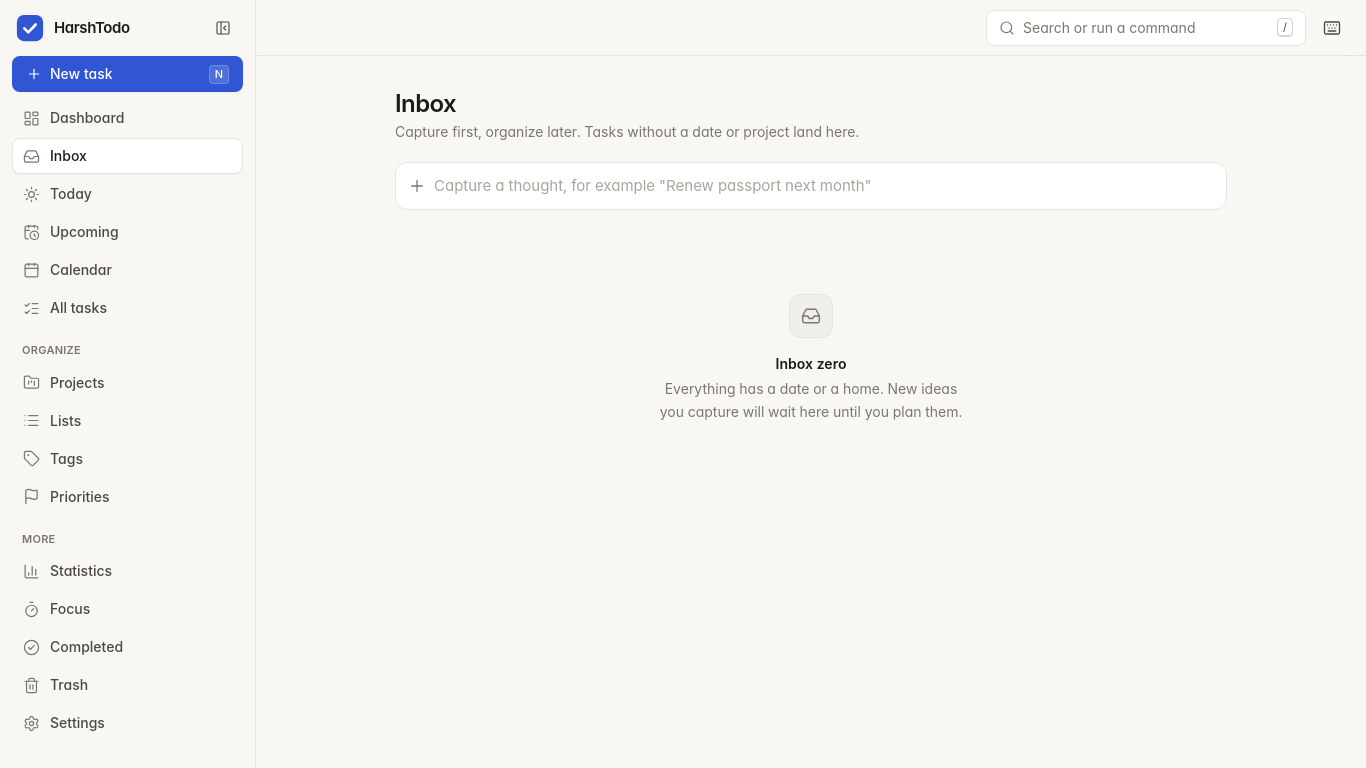
Test: keyboard shortcuts and accessibility › completes a task via Space on the selected row and can undo
The width and height of the screenshot is (1366, 768).
In the field named "Quick add task": x=824, y=186 434,175 -> 1214,197, type "Keyboard driven task"
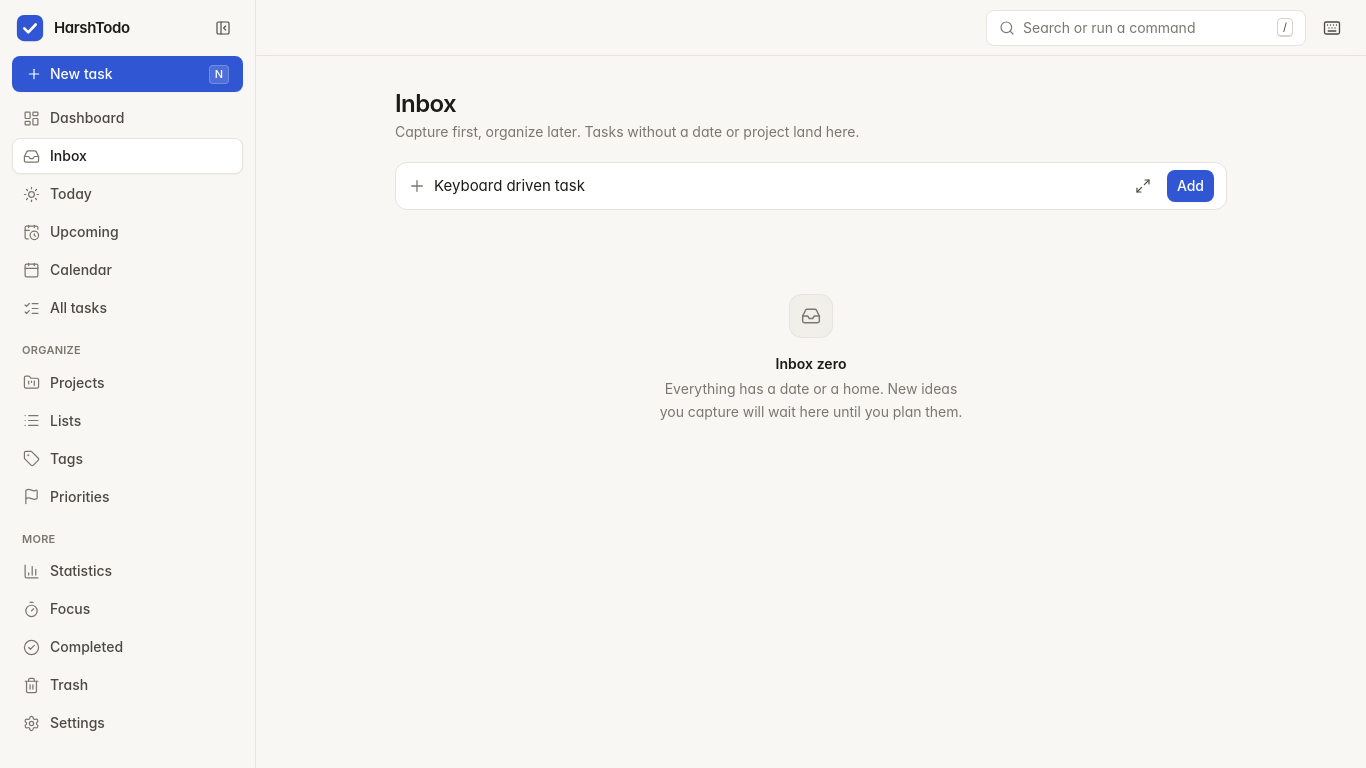
Submit the form named "Quick add task", box 395,162 -> 1227,210
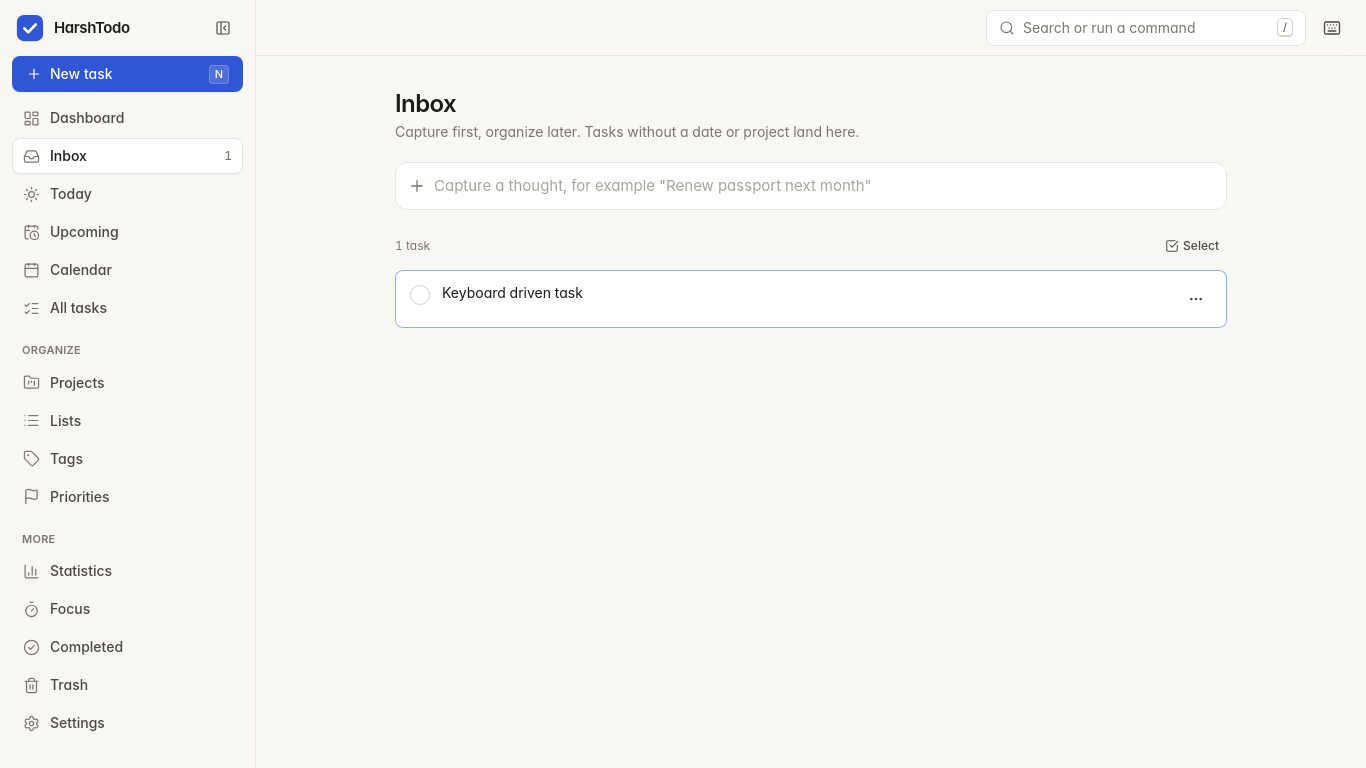
Press Space in the option "Keyboard driven task", box 395,270 -> 1227,328
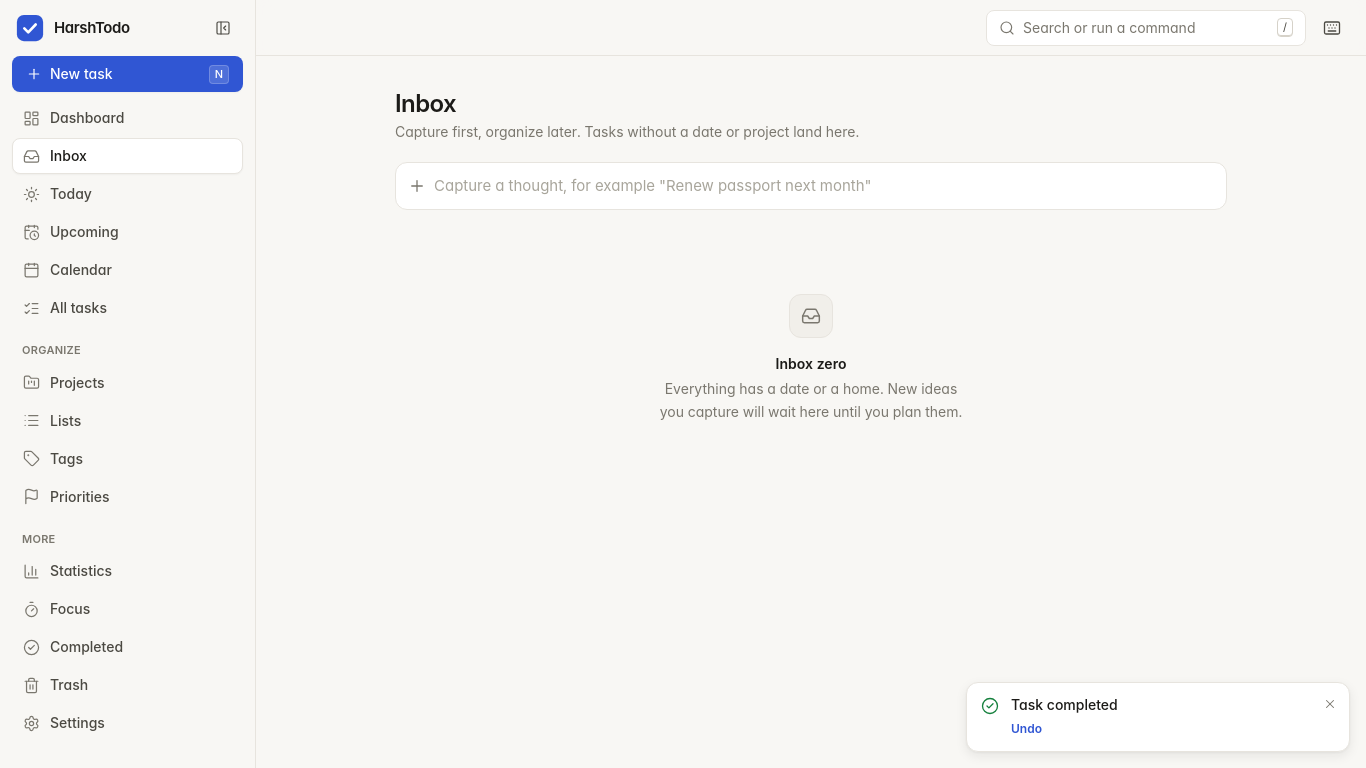
Expected: the option "Keyboard driven task" is gone
Click the button "Undo": x=1026, y=729 1011,721 -> 1042,737
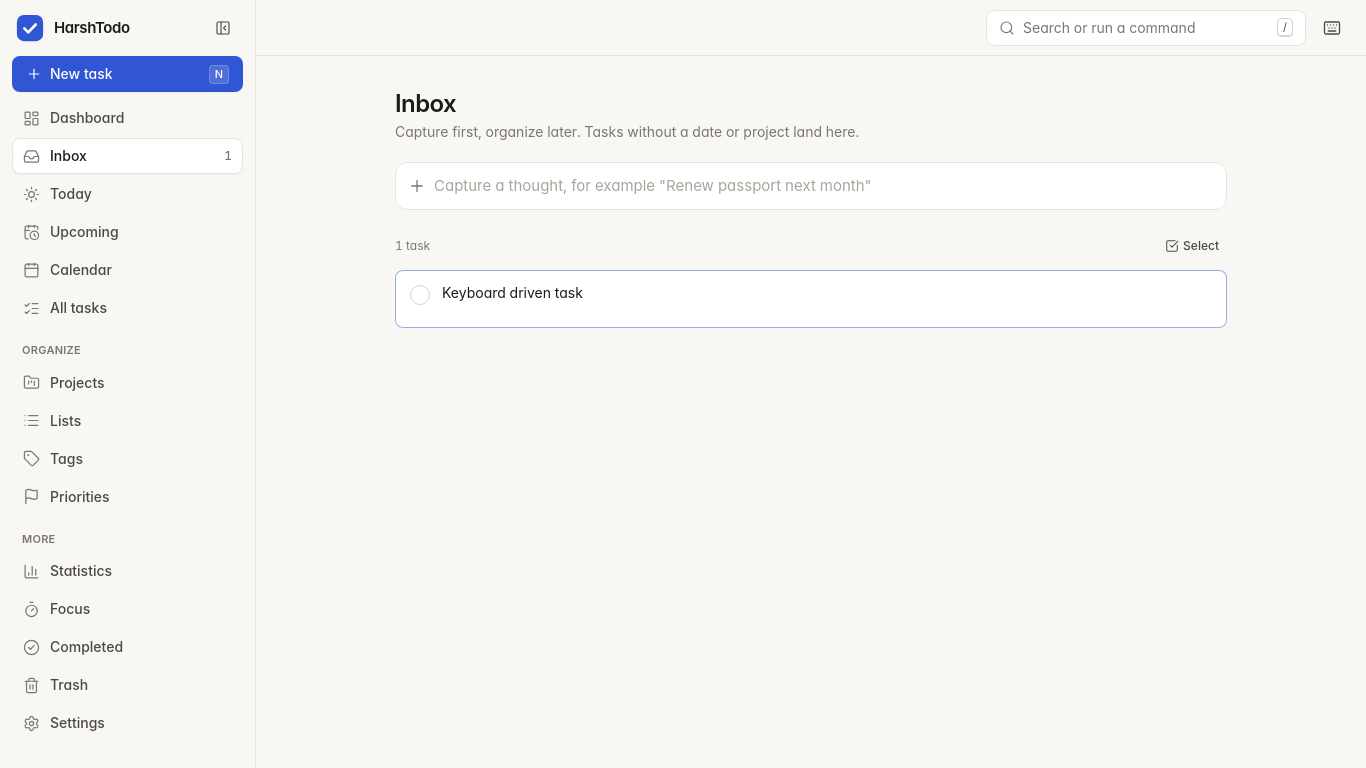
Expected: the option "Keyboard driven task" is shown, 395,270 -> 1227,328
